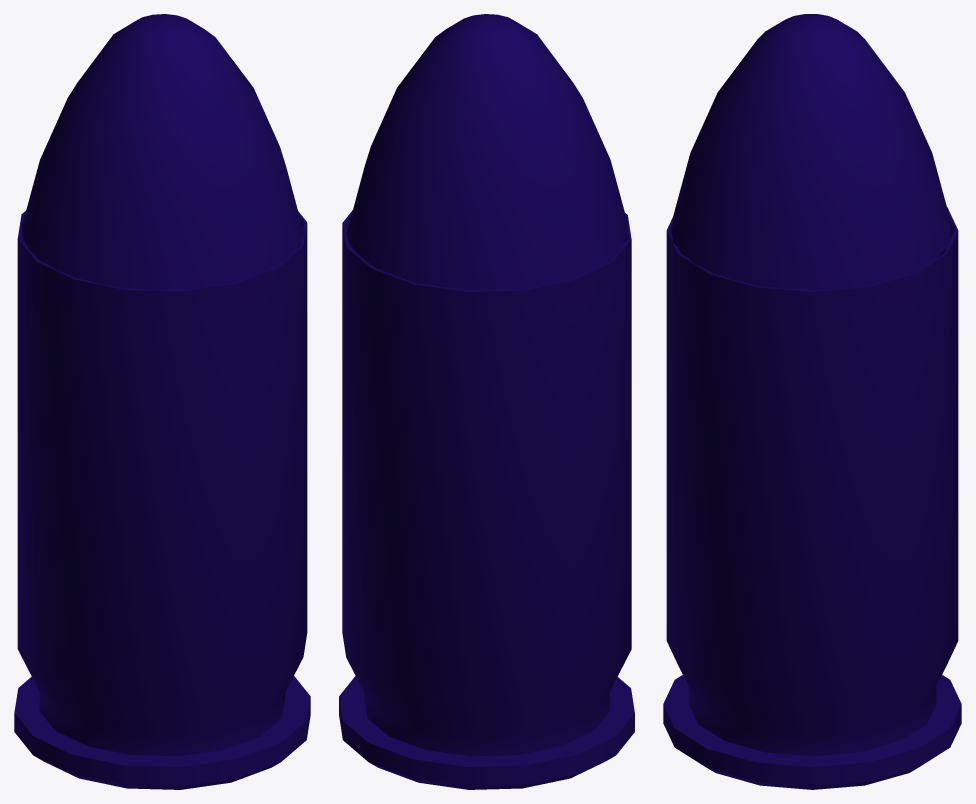
Rendered from Bullet_045 (LP).FBX.
3 views of the same model, side by side, from view 1: azimuth 30°, elevation 25°; view 2: azimuth 150°, elevation 25°; view 3: azimuth 270°, elevation 25° (orthographic).
Parts seen in each view (by area): view 1: Shell, Bullet; view 2: Shell, Bullet; view 3: Shell, Bullet.
Boxes of the visible parts, <box> form: Shell: <box>14,211,310,789</box>; Bullet: <box>22,14,304,290</box>; Shell: <box>339,210,634,789</box>; Bullet: <box>346,14,628,290</box>; Shell: <box>663,207,961,789</box>; Bullet: <box>672,14,950,290</box>.
Bounding box in the file's own units: 1.18 × 3.11 × 1.18.
